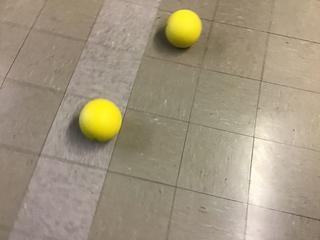power_cell: (77, 98, 126, 144), (163, 8, 202, 50)
